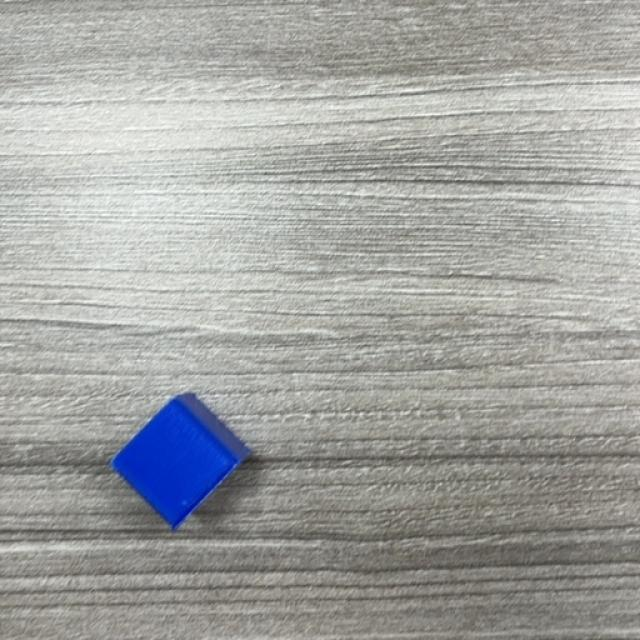Azul: (110, 394, 254, 531)
